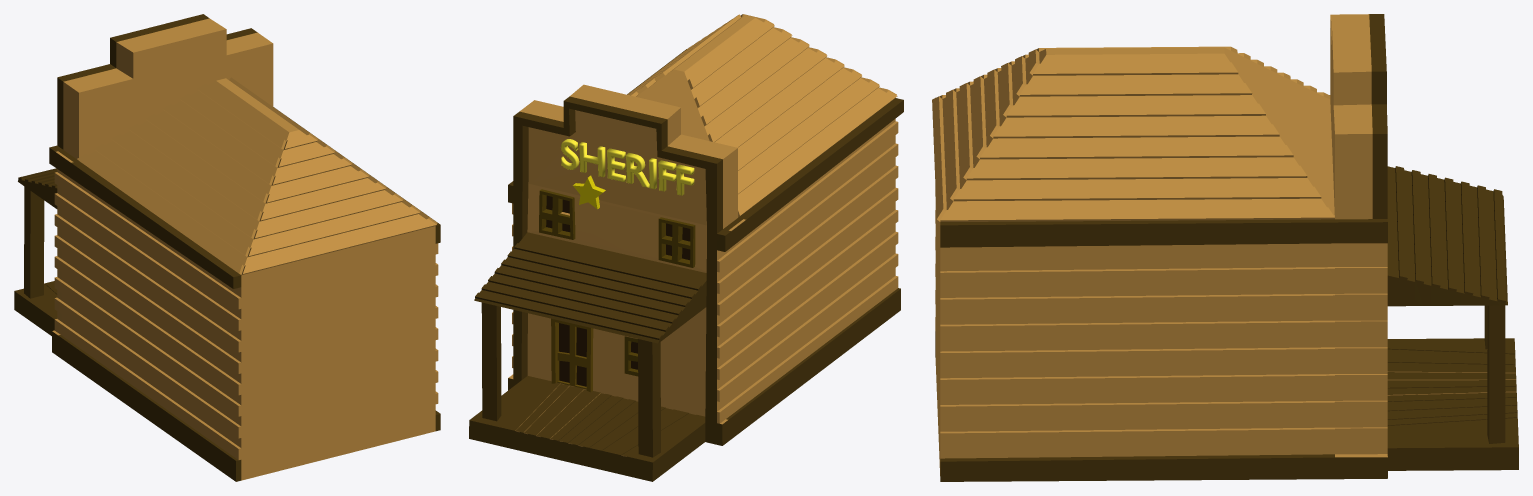
File: Sheriff.fbx
The picture shows the model from 3 angles, left to right: view 1: azimuth 30°, elevation 25°; view 2: azimuth 150°, elevation 25°; view 3: azimuth 270°, elevation 25°; orthographic projection. The views are drawn at different scales.
Visible parts, largest first — view 1: Sheriff; view 2: Sheriff; view 3: Sheriff.
Boxes of the visible parts, left/top/right/bottom form: Sheriff: left=14, top=14, right=440, bottom=481; Sheriff: left=469, top=14, right=903, bottom=481; Sheriff: left=932, top=14, right=1518, bottom=481.
Bounding box in the file's own units: 219 × 292 × 414.
